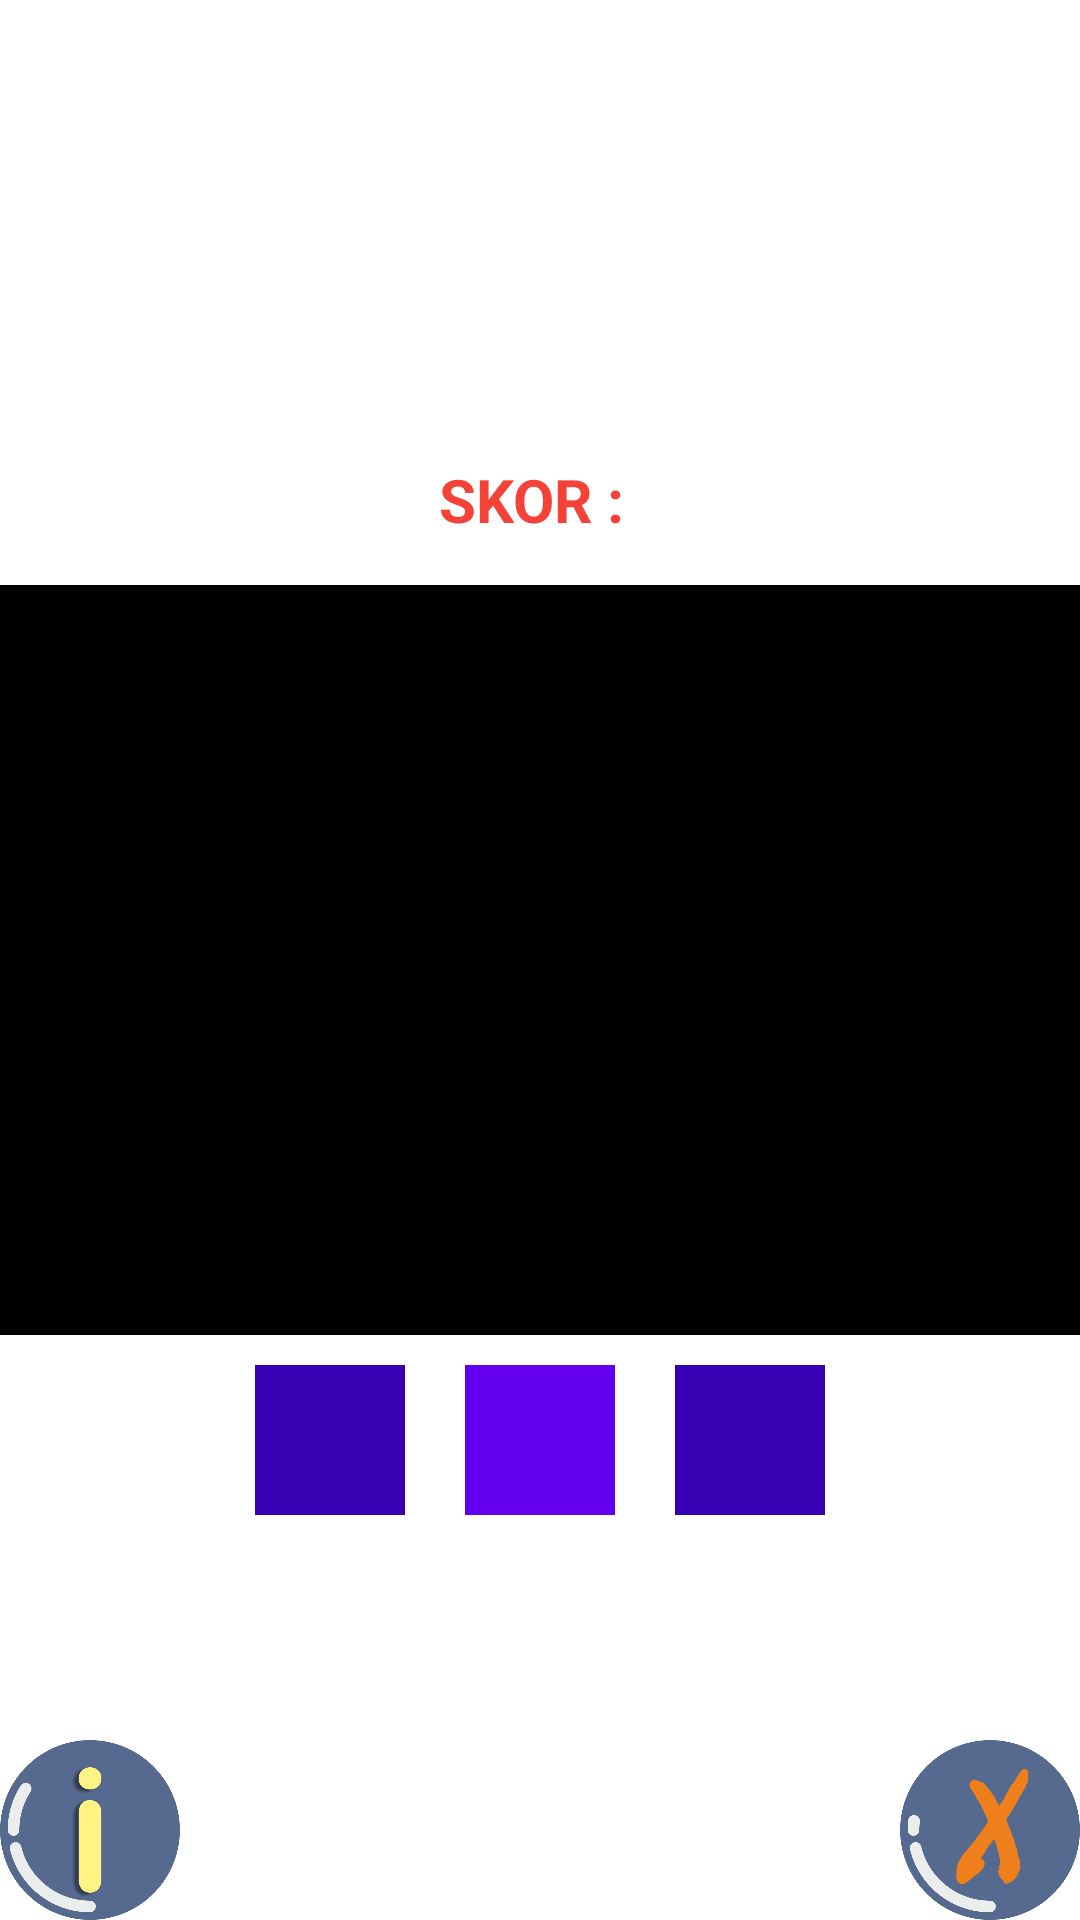

Where icons sit on this 1080*1920 app screen, as (x1, y1, x2, y2):
exit: (900, 1740, 1080, 1920)
tentang: (0, 1740, 180, 1920)
